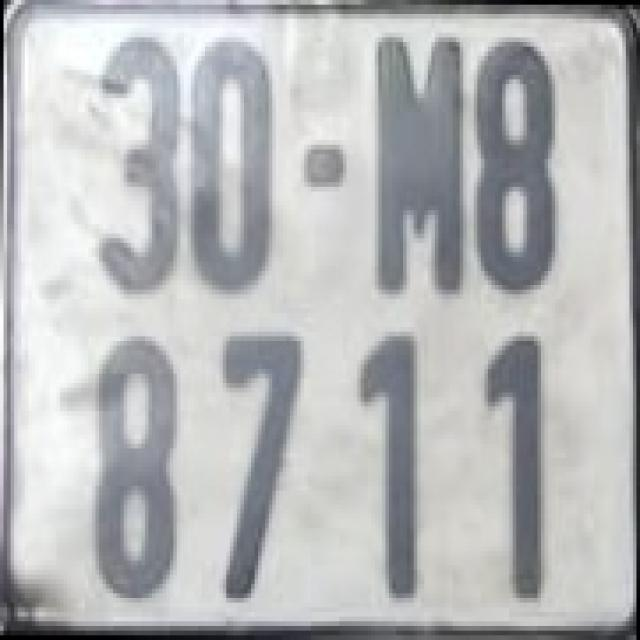0: (191, 33, 276, 294)
1: (354, 327, 432, 598), (481, 332, 555, 598)
3: (99, 33, 184, 294)
7: (212, 327, 304, 603)
8: (92, 327, 184, 598), (474, 33, 562, 294)
M: (369, 23, 465, 304)
